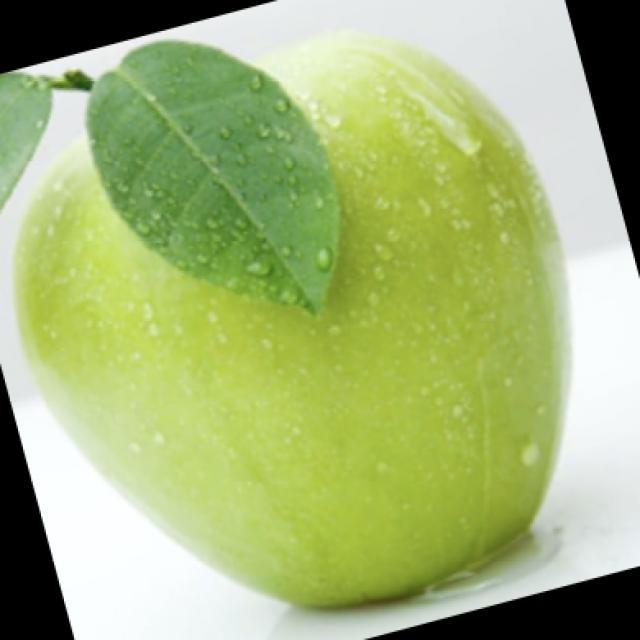Fresh Apple: (32, 35, 563, 608)
